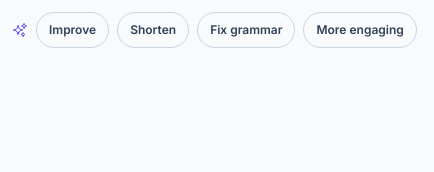
Test: TweetAssistPanel › shows a generic alert when the provider fails
The width and height of the screenshot is (434, 172).
What coordinates should you click on to do the following:
click the button "Improve"
I would click on:
 (73, 30)
Its box is top-left (36, 12), bottom-right (109, 48).
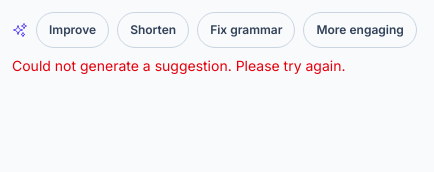
Now the message with test id "assist-error" shows "Could not generate a suggestion", box top-left (12, 57), bottom-right (346, 74)
